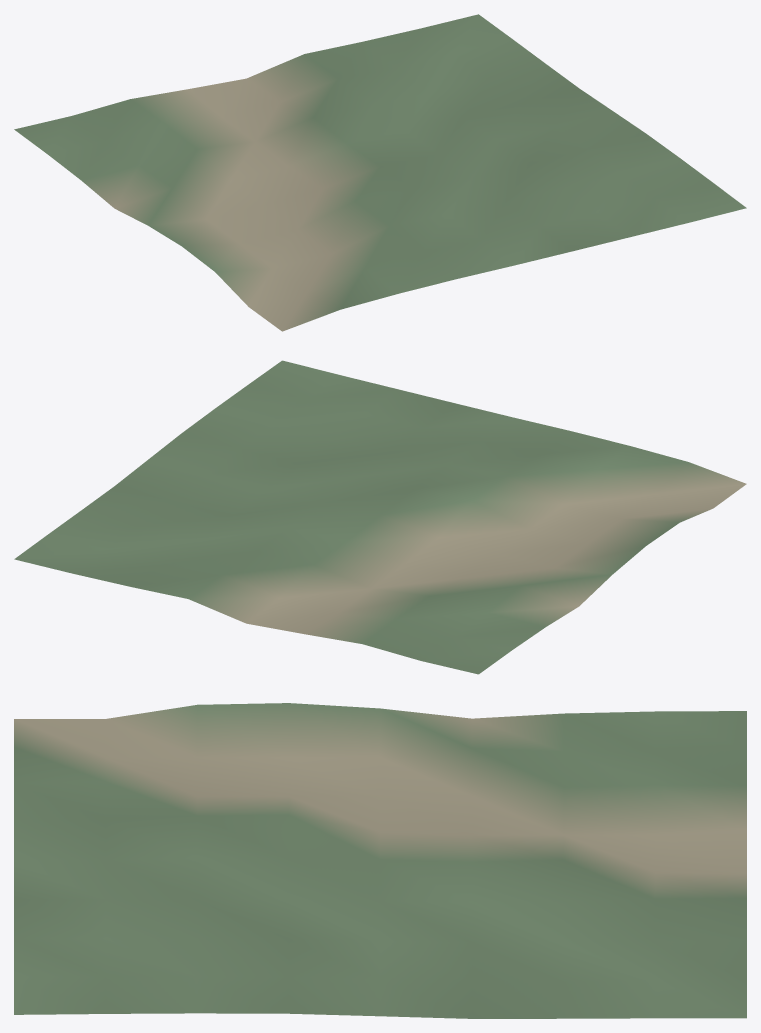
3 renders of one model, top to bottom at view 1: azimuth 30°, elevation 25°; view 2: azimuth 150°, elevation 25°; view 3: azimuth 270°, elevation 25°, orthographic. The views are drawn at different scales.
Parts seen in each view (by area): view 1: Lo; view 2: Lo; view 3: Lo.
Part boxes in pixels (bbox=[...]): Lo: bbox=[14, 14, 746, 331]; Lo: bbox=[14, 360, 746, 674]; Lo: bbox=[14, 703, 746, 1018].
Bounding box in the file's own units: 256 × 7.75 × 256.
